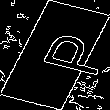P_W: (12, 29, 98, 81)
